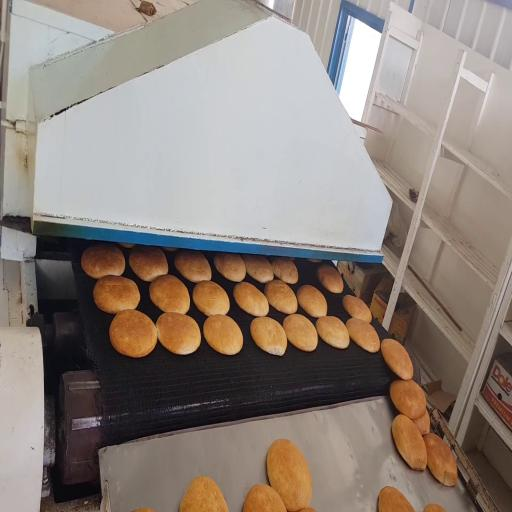bread: (267, 439, 311, 511), (110, 310, 157, 357), (392, 415, 427, 470), (156, 313, 201, 355), (93, 275, 140, 314), (424, 434, 457, 486), (180, 477, 228, 511), (81, 244, 125, 279), (204, 315, 242, 355), (150, 275, 190, 313), (390, 380, 426, 420), (251, 317, 287, 356), (129, 246, 168, 282), (381, 339, 413, 380), (193, 281, 229, 316), (283, 314, 317, 351), (174, 250, 211, 282), (243, 484, 286, 511), (234, 282, 268, 316), (346, 319, 379, 352), (265, 280, 297, 314), (316, 316, 349, 348), (297, 285, 327, 317), (214, 254, 245, 282), (379, 487, 414, 511), (243, 255, 273, 283), (343, 295, 371, 323), (271, 257, 298, 284), (317, 265, 343, 293), (414, 410, 430, 435), (424, 504, 445, 511), (119, 243, 134, 248), (163, 247, 177, 252), (133, 508, 154, 511), (301, 507, 316, 511), (308, 259, 322, 263)
